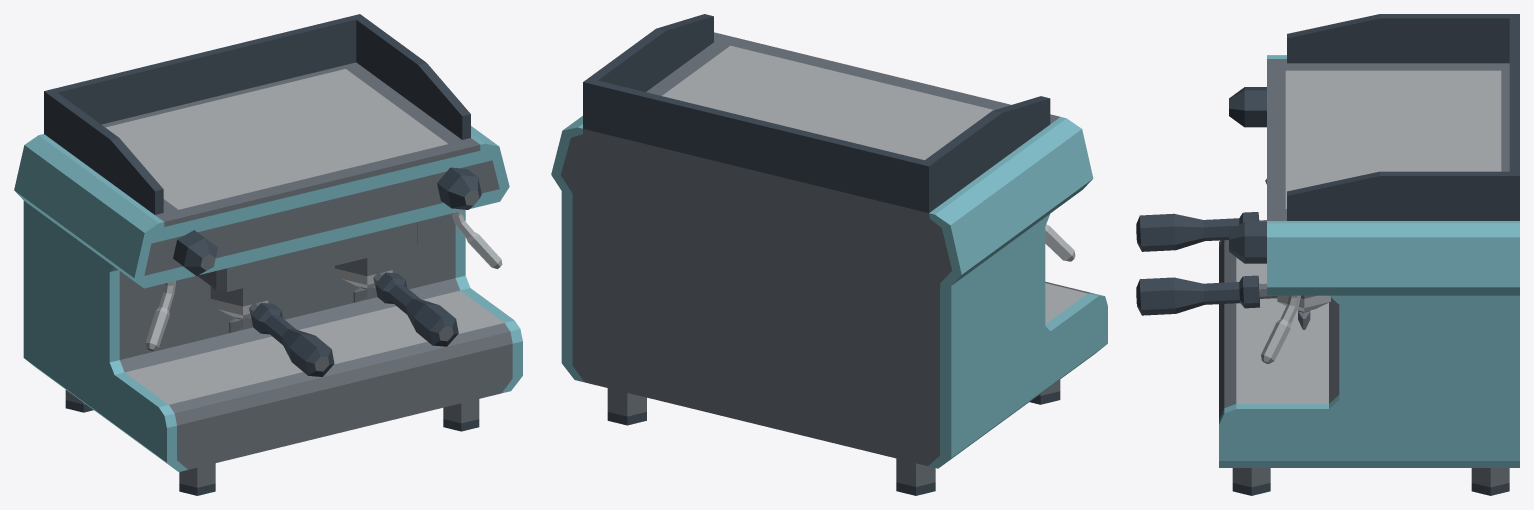
File: Expresso_Machine_LG.FBX
3 views of the same model, side by side, from view 1: azimuth 30°, elevation 25°; view 2: azimuth 150°, elevation 25°; view 3: azimuth 270°, elevation 25° (orthographic). The views are drawn at different scales.
Parts seen in each view (by area): view 1: Expresso_Machine_LG001; view 2: Expresso_Machine_LG001; view 3: Expresso_Machine_LG001.
Part boxes in pixels (x1=…): Expresso_Machine_LG001: x1=14, y1=14, x2=522, y2=495; Expresso_Machine_LG001: x1=551, y1=14, x2=1107, y2=495; Expresso_Machine_LG001: x1=1136, y1=14, x2=1519, y2=495.
Size of the model in its own units: 104 by 81.67 by 87.57.
